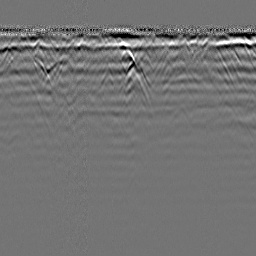cavity: (120, 48, 135, 63)
